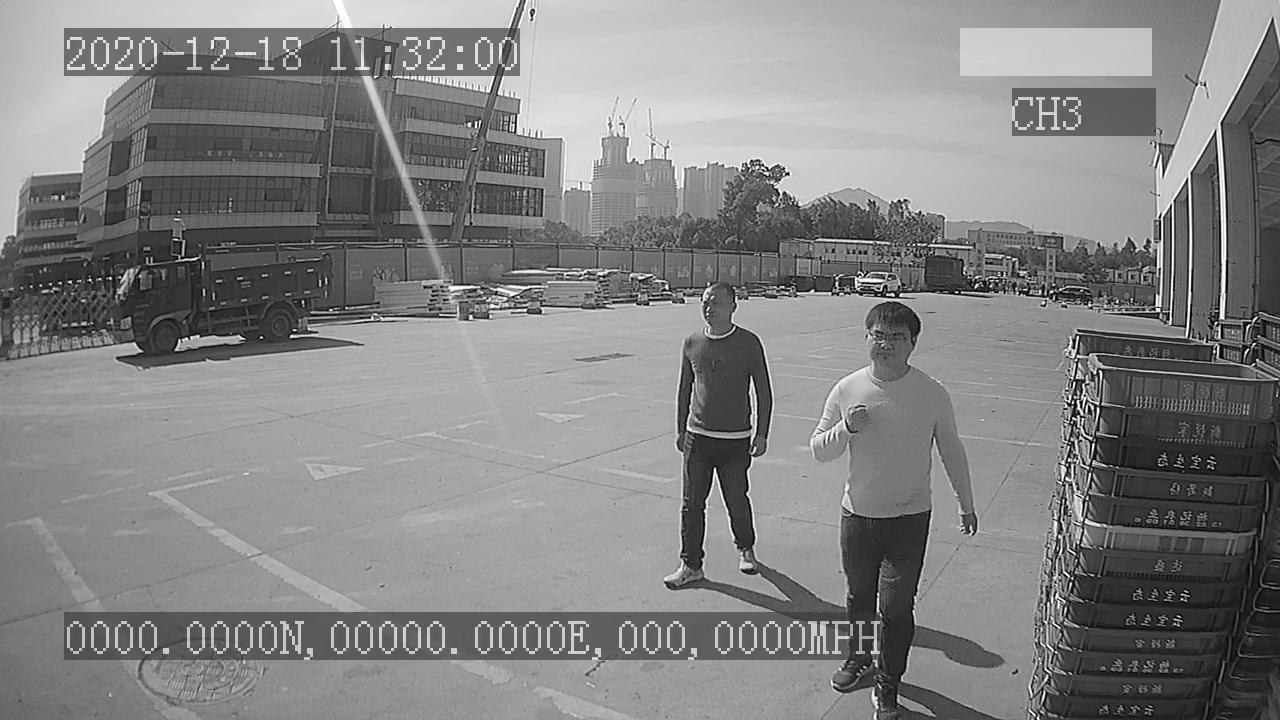person: (663, 284, 775, 587)
